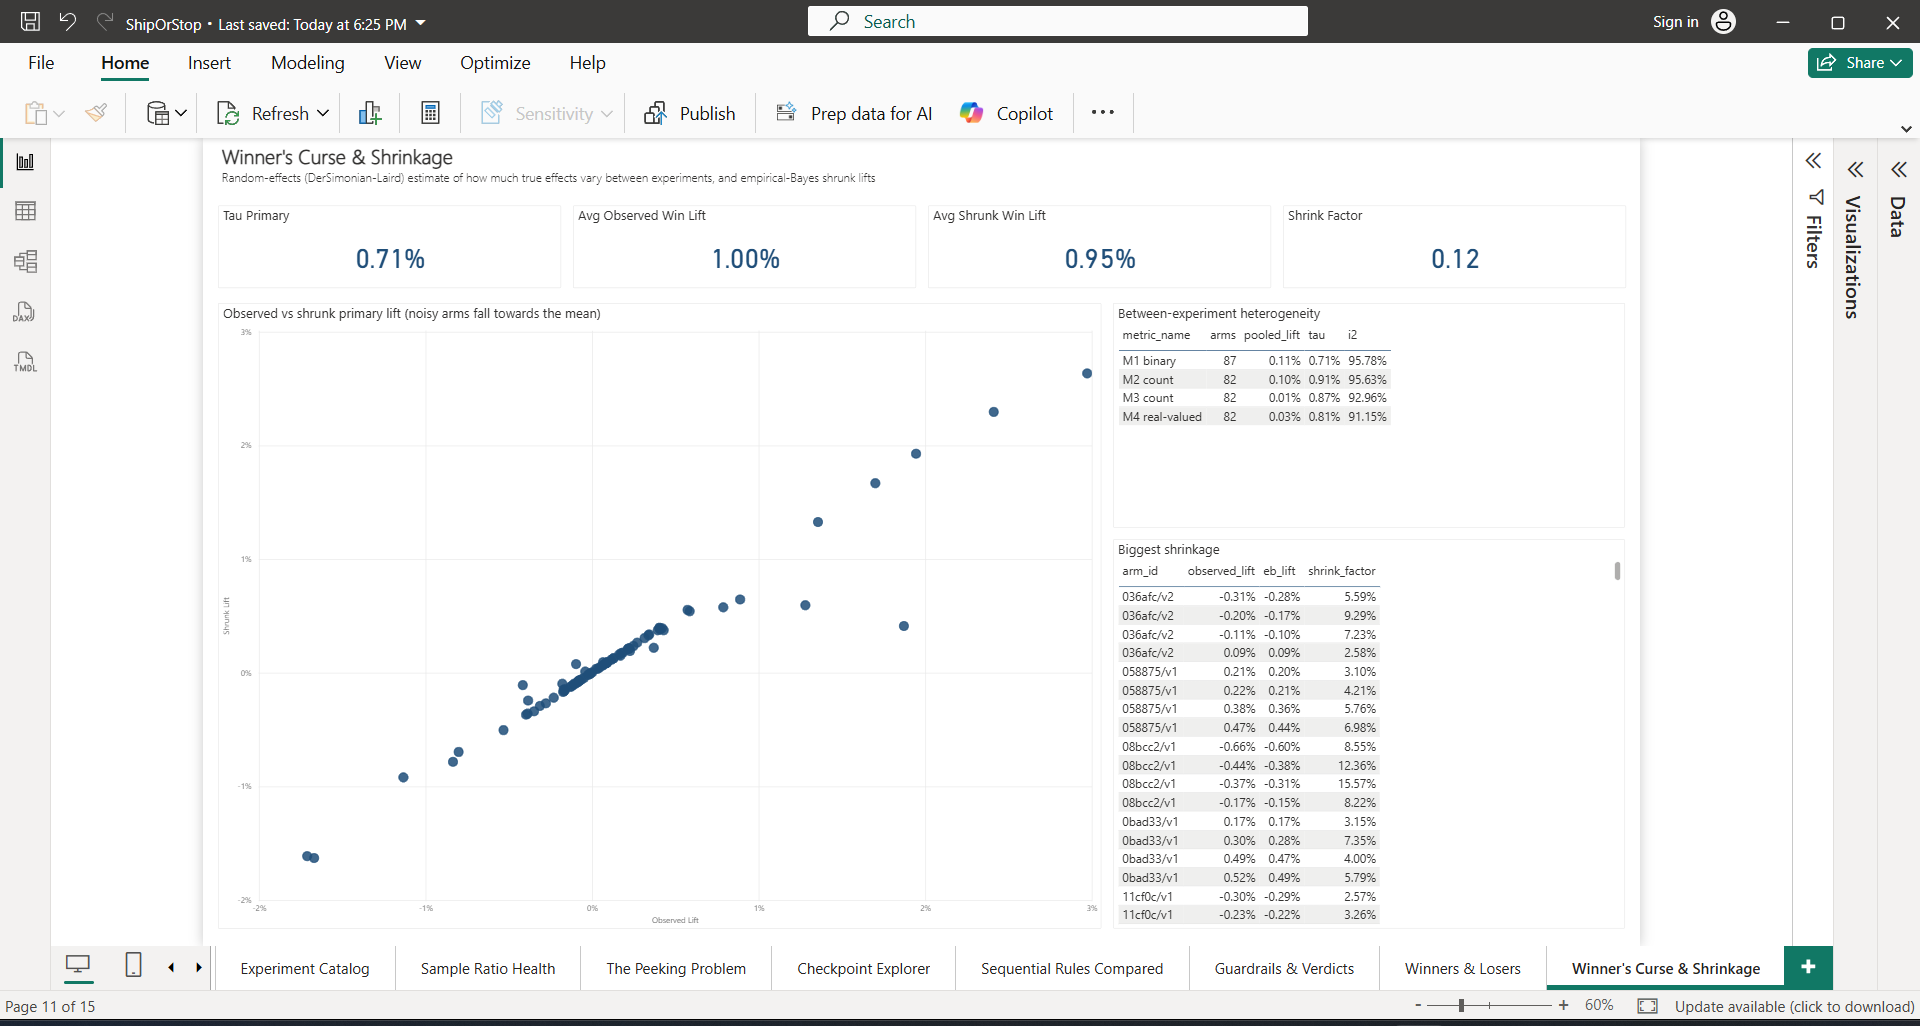

What the dashboard file says about the page in this screenshot:
{"tool":"powerbi","page":{"name":"Winner's Curse & Shrinkage","canvas":[1920,1080],"ordinal":10},"visuals":[{"type":"textbox","box":[20,2,1880,86],"z":0},{"type":"card","title":"Tau Primary","fields":{"Values":["_Measures.Tau Primary"]},"box":[20,90,458,110],"z":1000},{"type":"card","title":"Avg Observed Win Lift","fields":{"Values":["_Measures.Avg Observed Win Lift"]},"box":[494,90,458,110],"z":2000},{"type":"card","title":"Avg Shrunk Win Lift","fields":{"Values":["_Measures.Avg Shrunk Win Lift"]},"box":[968,90,458,110],"z":3000},{"type":"card","title":"Shrink Factor","fields":{"Values":["_Measures.Shrink Factor"]},"box":[1442,90,458,110],"z":4000},{"type":"scatterChart","title":"Observed vs shrunk primary lift (noisy arms fall towards the mean)","fields":{"Category":["eb_shrinkage.arm_id"],"X":["_Measures.Observed Lift"],"Y":["_Measures.Shrunk Lift"]},"box":[20,220,1180,836],"z":5000},{"type":"tableEx","title":"Between-experiment heterogeneity","fields":{"Values":["heterogeneity.metric_name","heterogeneity.arms","heterogeneity.pooled_lift","heterogeneity.tau","heterogeneity.i2"]},"box":[1216,220,684,300],"z":6000},{"type":"tableEx","title":"Biggest shrinkage","fields":{"Values":["eb_shrinkage.arm_id","eb_shrinkage.observed_lift","eb_shrinkage.eb_lift","eb_shrinkage.shrink_factor"]},"box":[1216,536,684,520],"z":7000}]}

Visuals, with their boxes on the page's 1920x1080 design canvas (x1, y1, x2, y2). These are canvas units, not pixel positions in the 1920x1026 screenshot, which may show the page scaled, cropped or inside an application window:
textbox: Rect(20, 2, 1900, 88)
"Tau Primary" card: Rect(20, 90, 478, 200)
"Avg Observed Win Lift" card: Rect(494, 90, 952, 200)
"Avg Shrunk Win Lift" card: Rect(968, 90, 1426, 200)
"Shrink Factor" card: Rect(1442, 90, 1900, 200)
"Observed vs shrunk primary lift (noisy arms fall towards the mean)" scatterChart: Rect(20, 220, 1200, 1056)
"Between-experiment heterogeneity" tableEx: Rect(1216, 220, 1900, 520)
"Biggest shrinkage" tableEx: Rect(1216, 536, 1900, 1056)
